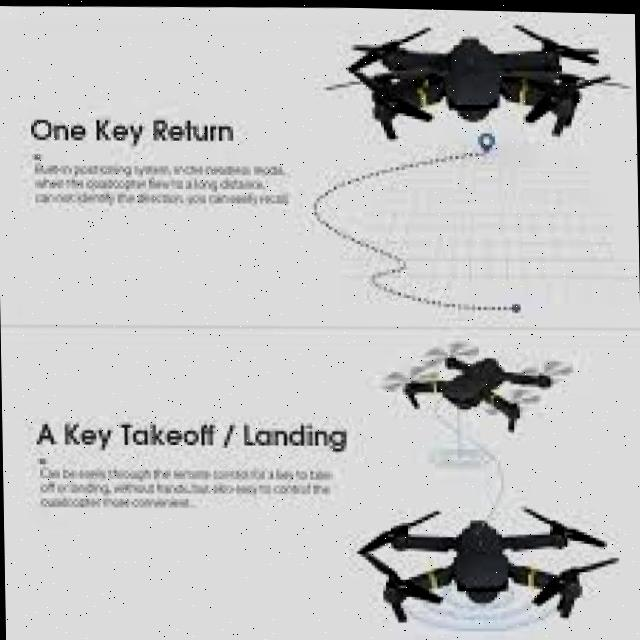drone: (309, 6, 625, 161), (357, 490, 618, 640), (378, 326, 574, 450)
